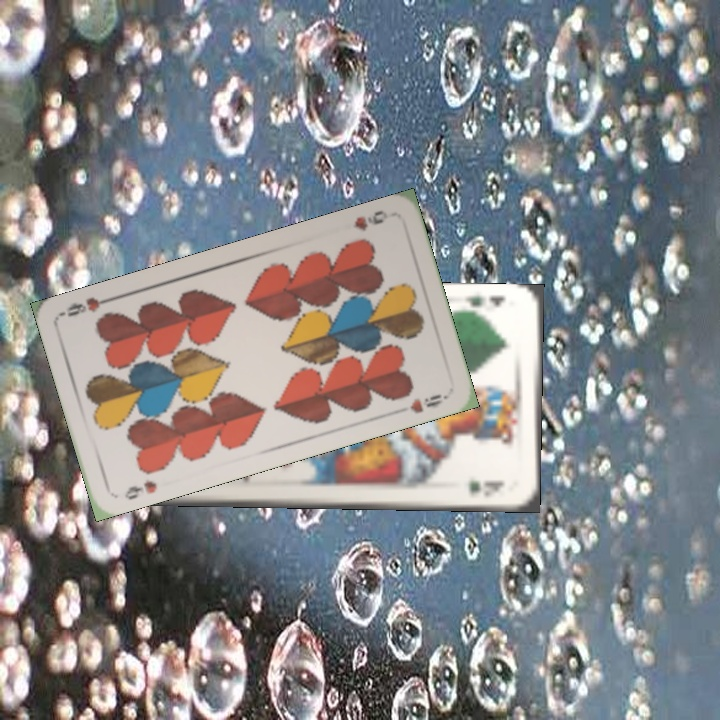GK: (460, 290, 507, 310)
H9: (349, 206, 391, 234), (120, 476, 160, 503)
